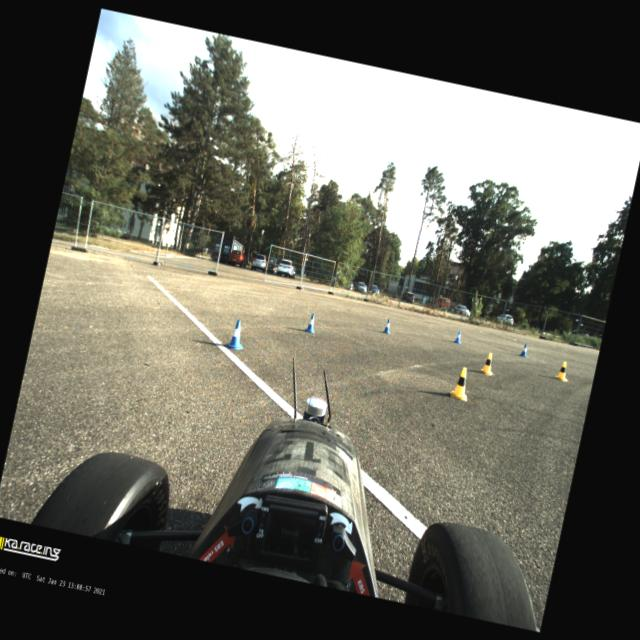blue_cone: (225, 318, 248, 351), (304, 311, 318, 333), (382, 318, 393, 334), (518, 342, 528, 358), (453, 329, 463, 344)
yellow_cone: (449, 365, 473, 401), (478, 351, 498, 376), (554, 360, 571, 382)
